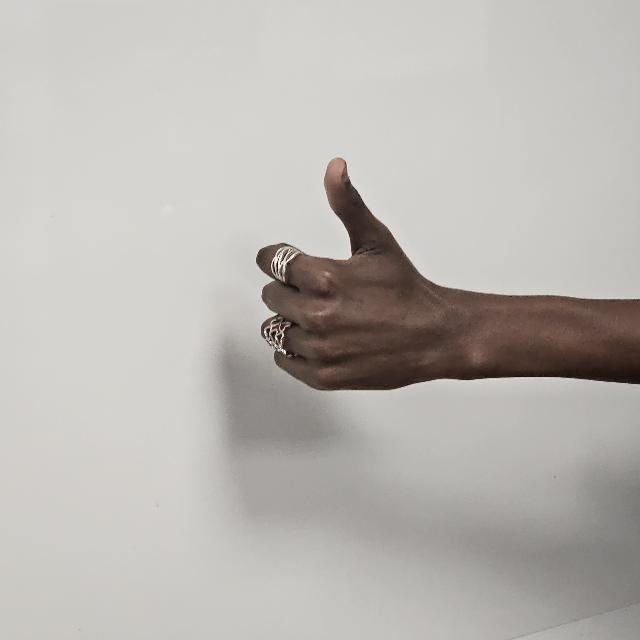Start: (254, 158, 456, 428)
